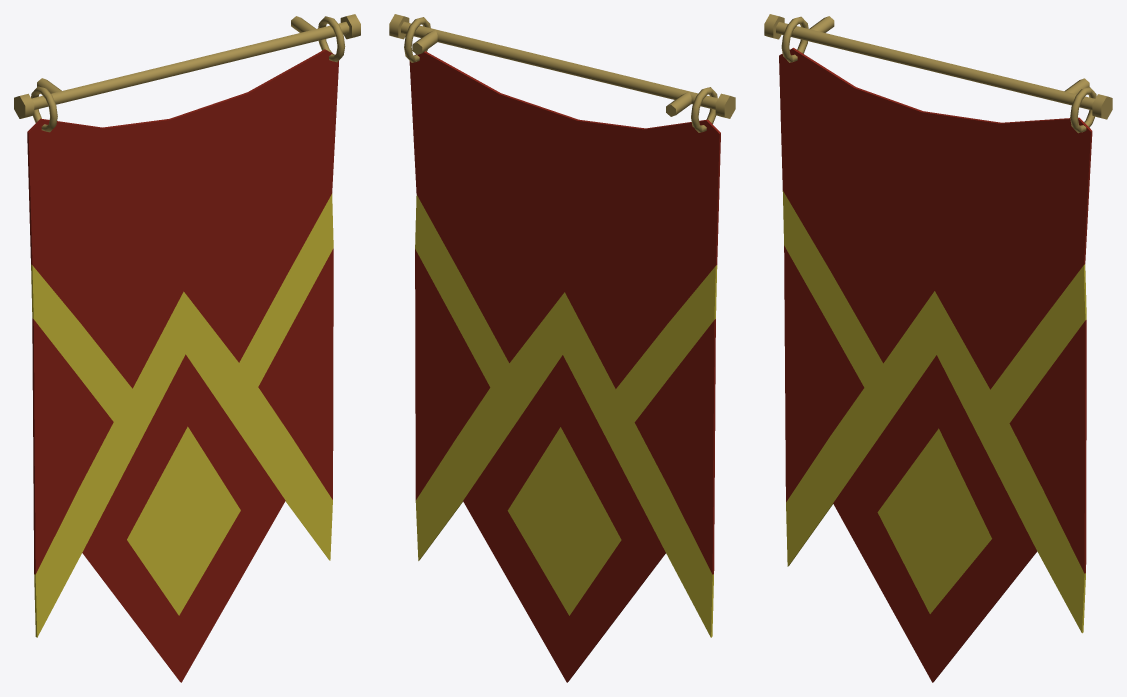
File: banner.glb
3 renders of one model, left to right at view 1: azimuth 30°, elevation 25°; view 2: azimuth 150°, elevation 25°; view 3: azimuth 330°, elevation 25°, orthographic.
Parts seen in each view (by area): view 1: Banner; view 2: Banner; view 3: Banner.
Part boxes in pixels (x1=…): Banner: x1=14, y1=14, x2=360, y2=682; Banner: x1=389, y1=14, x2=735, y2=682; Banner: x1=764, y1=14, x2=1112, y2=682.
Size of the model in its own units: 2.11 by 3.78 by 0.3244.
2 materials, 2 textured.
